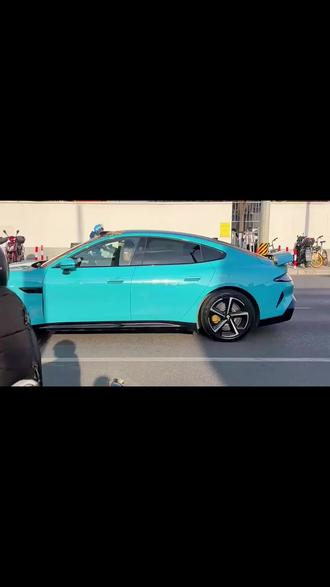su7: (1, 229, 302, 340)
